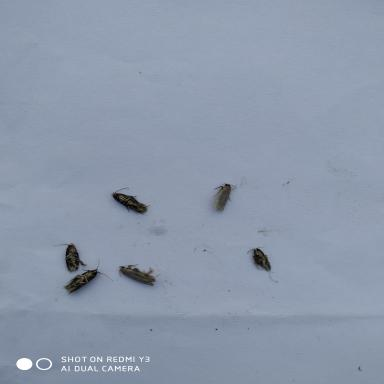pbw: (60, 257, 115, 296), (245, 246, 279, 284), (118, 260, 164, 288), (110, 187, 152, 216), (49, 241, 86, 273), (210, 182, 240, 214)
